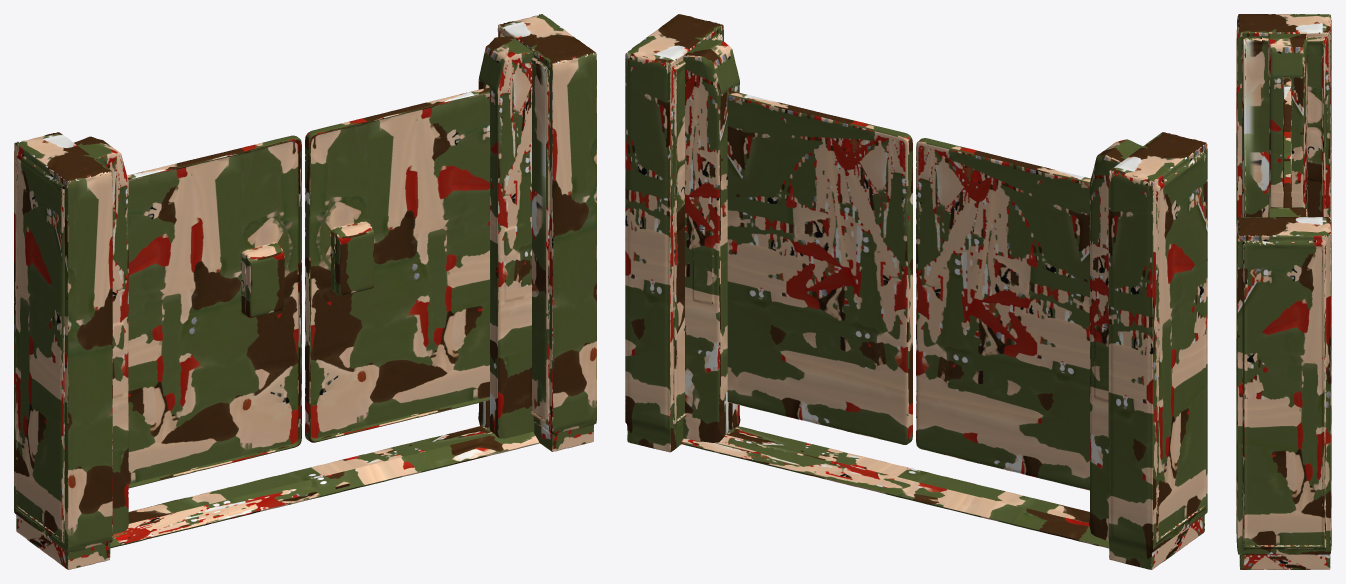
3 renders of one model, left to right at view 1: azimuth 30°, elevation 25°; view 2: azimuth 150°, elevation 25°; view 3: azimuth 270°, elevation 25°, orthographic. The views are drawn at different scales.
Parts seen in each view (by area): view 1: tripo_node_891cdc7f012, tripo_node_891cdc7f011, tripo_node_c96d2b104, tripo_node_c96d2b105, tripo_node_0ffb1172, tripo_node_7b4208a010, tripo_node_0ffb1171; view 2: tripo_node_891cdc7f012, tripo_node_891cdc7f011, tripo_node_c96d2b104, tripo_node_c96d2b105, tripo_node_0ffb1172, tripo_node_7b4208a010, tripo_node_0ffb1171; view 3: tripo_node_c96d2b105, tripo_node_c96d2b104, tripo_node_0ffb1171, tripo_node_891cdc7f011, tripo_node_891cdc7f012, tripo_node_0ffb1172.
Boxes of the visible parts, x1=… form: tripo_node_891cdc7f012: x1=305, y1=87, x2=490, y2=442; tripo_node_891cdc7f011: x1=127, y1=135, x2=301, y2=488; tripo_node_c96d2b104: x1=14, y1=132, x2=112, y2=569; tripo_node_c96d2b105: x1=497, y1=14, x2=596, y2=451; tripo_node_0ffb1172: x1=478, y1=36, x2=534, y2=438; tripo_node_7b4208a010: x1=110, y1=425, x2=539, y2=548; tripo_node_0ffb1171: x1=74, y1=136, x2=128, y2=534; tripo_node_891cdc7f012: x1=727, y1=90, x2=912, y2=444; tripo_node_891cdc7f011: x1=916, y1=138, x2=1090, y2=490; tripo_node_c96d2b104: x1=1108, y1=132, x2=1207, y2=569; tripo_node_c96d2b105: x1=625, y1=14, x2=723, y2=452; tripo_node_0ffb1172: x1=683, y1=39, x2=740, y2=442; tripo_node_7b4208a010: x1=681, y1=426, x2=1109, y2=548; tripo_node_0ffb1171: x1=1089, y1=139, x2=1142, y2=540; tripo_node_c96d2b105: x1=1236, y1=217, x2=1331, y2=569; tripo_node_c96d2b104: x1=1236, y1=14, x2=1331, y2=233; tripo_node_0ffb1171: x1=1268, y1=34, x2=1307, y2=211; tripo_node_891cdc7f011: x1=1283, y1=78, x2=1292, y2=162; tripo_node_891cdc7f012: x1=1283, y1=161, x2=1292, y2=208; tripo_node_0ffb1172: x1=1268, y1=208, x2=1307, y2=217.
Bounding box in the file's own units: 262 × 183 × 47.07.
